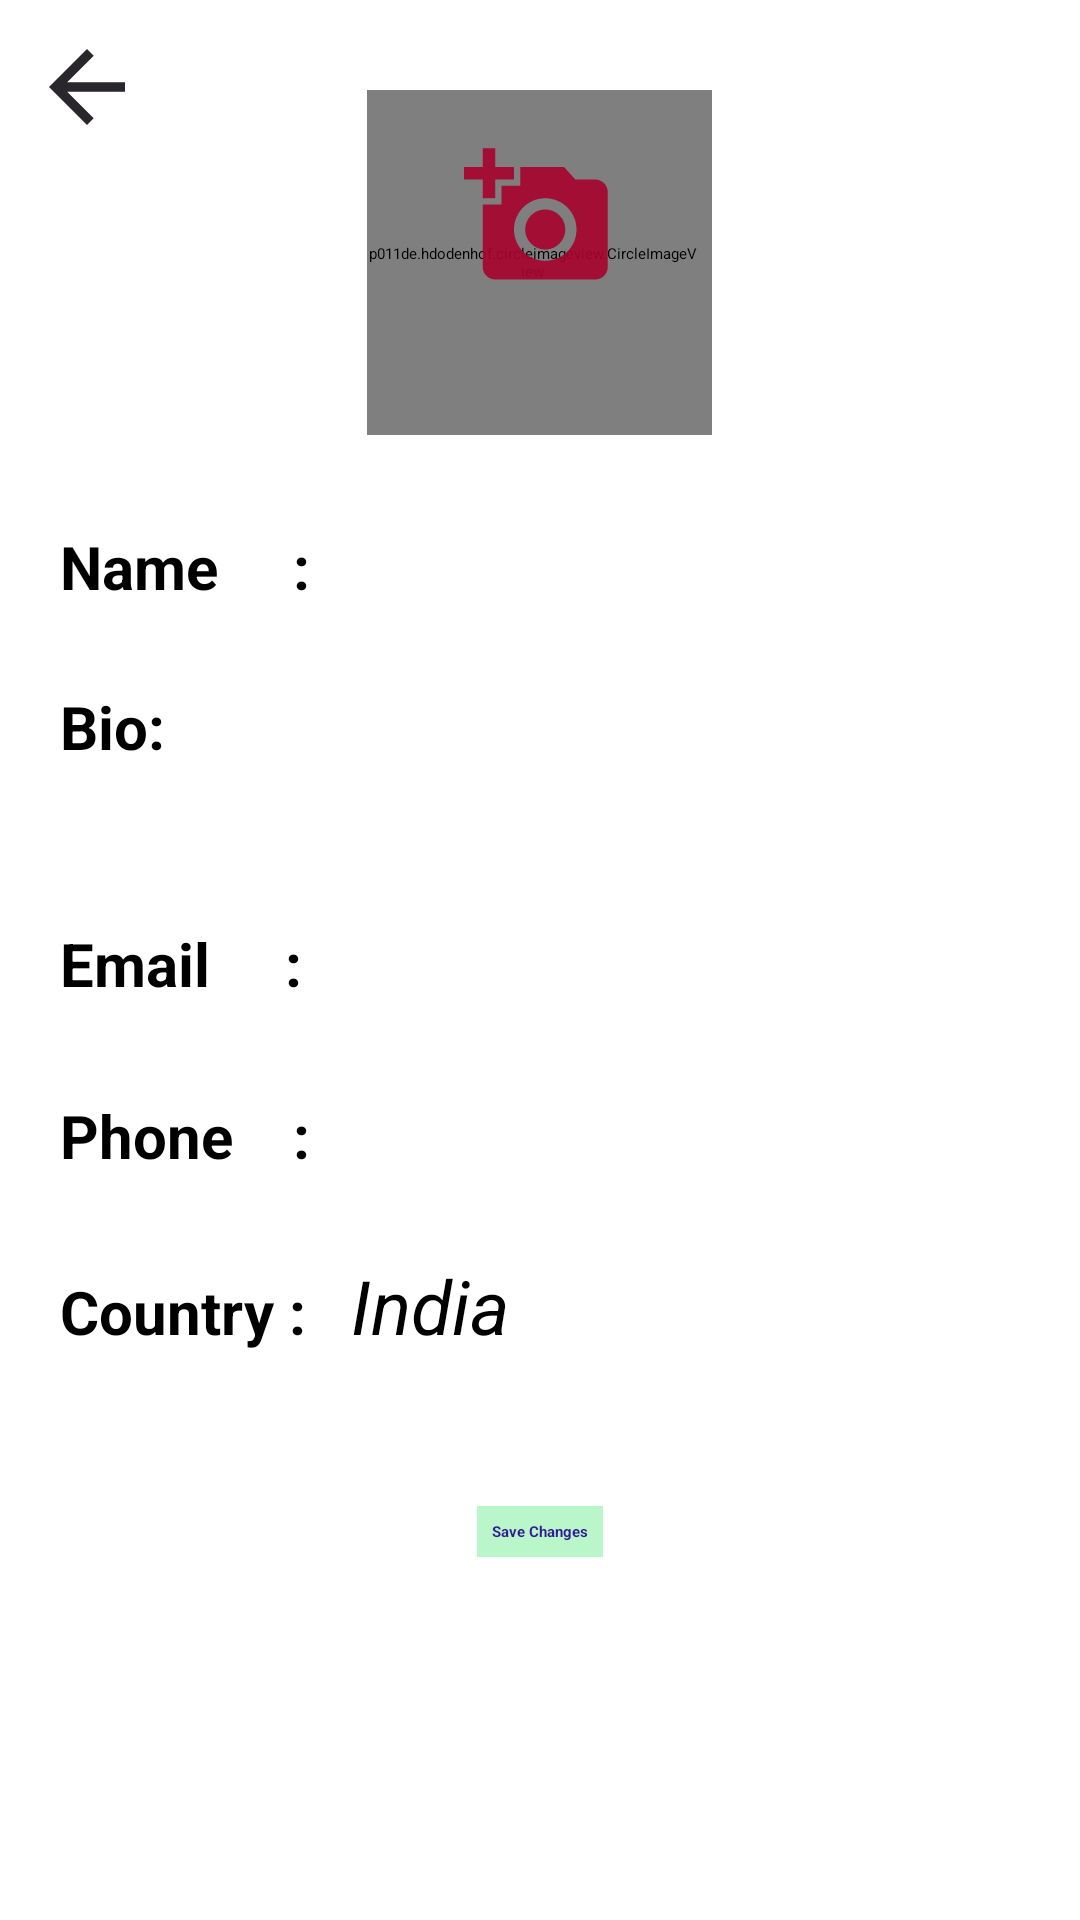

Icon bounding boxes for this 1080px x 1920px phone screenshot, format [x1, y1, x2, y2]:
back: [49, 49, 125, 125]
edit profile photo: [464, 148, 614, 280]
